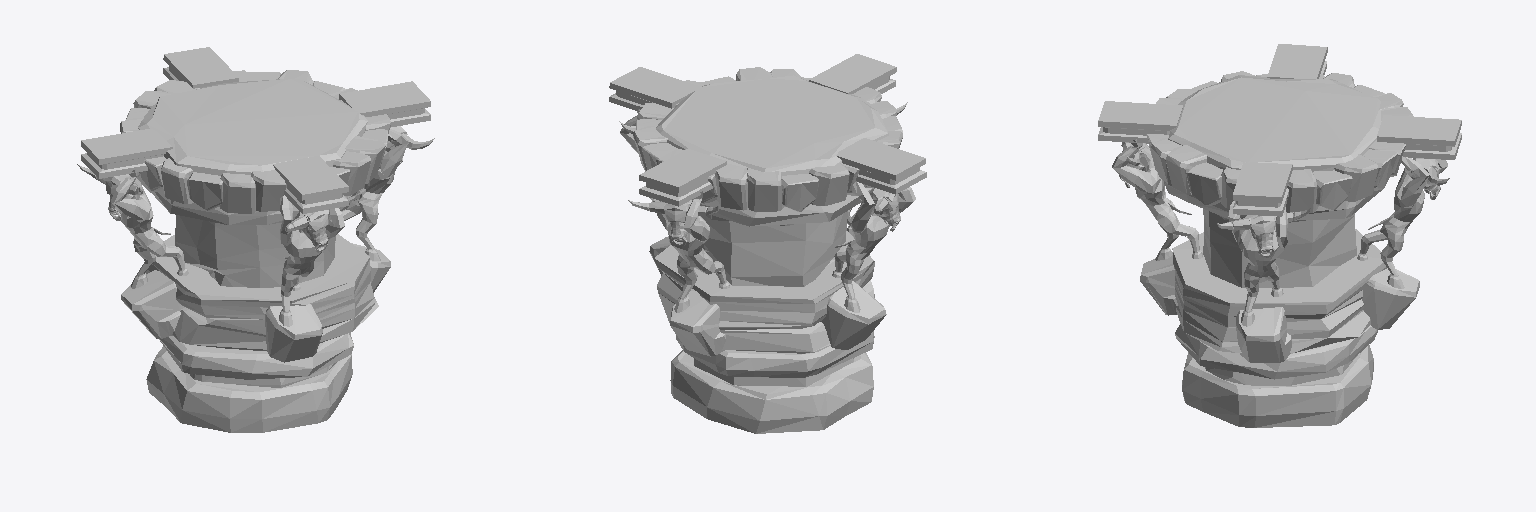
Rendered from hub pillar.obj.
3 views of the same model, side by side, from view 1: azimuth 30°, elevation 25°; view 2: azimuth 150°, elevation 25°; view 3: azimuth 270°, elevation 25° (orthographic).
Parts seen in each view (by area): view 1: group37 polySurface3 stone15 polySurface32 polySurface1, group37 polySurface10 stone1 polySurface32 polySurface1, group37 polySurface10 stone15 polySurface32 polySurface1, group37 polySurface10 stone10 polySurface32 polySurface1, group37 polySurface10 stone9 polySurface32 polySurface1, group39 group41 group42 group43 group45 polySurface5 polySurface, group39 group41 group42 group43 group44 polySurface5 polySurface, group39 group41 group42 polySurface9 polySurface12, group38 group40 group42 polySurface9 polySurface12, group39 group41 group42 group43 group46 polySurface5 polySurface, group39 group40 group42 polySurface9 polySurface12, group17 group38 group40 group42 polySurface4 stone6 top_ring pol (+11 smaller); view 2: group37 polySurface3 stone15 polySurface32 polySurface1, group37 polySurface10 stone1 polySurface32 polySurface1, group37 polySurface10 stone15 polySurface32 polySurface1, group37 polySurface10 stone10 polySurface32 polySurface1, group39 group41 group42 group43 group44 polySurface5 polySurface, group39 group41 group42 group43 group47 polySurface5 polySurface, group37 polySurface10 stone9 polySurface32 polySurface1, group39 group41 group42 polySurface9 polySurface12, group38 group41 group42 polySurface9 polySurface12, group17 group39 group41 group42 polySurface4 stone6 top_ring pol, group39 group40 group42 polySurface9 polySurface12, group17 group38 group41 group42 polySurface4 stone6 top_ring pol (+7 smaller); view 3: group37 polySurface3 stone15 polySurface32 polySurface1, group37 polySurface10 stone1 polySurface32 polySurface1, group37 polySurface10 stone15 polySurface32 polySurface1, group37 polySurface10 stone10 polySurface32 polySurface1, group37 polySurface10 stone9 polySurface32 polySurface1, group39 group41 group42 group43 group46 polySurface5 polySurface, group39 group41 group42 group43 group47 polySurface5 polySurface, group39 group41 group42 group43 group45 polySurface5 polySurface, group38 group41 group42 polySurface9 polySurface12, group38 group40 group42 polySurface9 polySurface12, group39 group40 group42 polySurface9 polySurface12, group17 group39 group40 group42 polySurface4 stone6 top_ring pol (+11 smaller).
Boxes of the visible parts, x1=… form: group37 polySurface3 stone15 polySurface32 polySurface1: x1=138, y1=79, x2=367, y2=175; group37 polySurface10 stone1 polySurface32 polySurface1: x1=145, y1=234, x2=378, y2=350; group37 polySurface10 stone15 polySurface32 polySurface1: x1=146, y1=346, x2=352, y2=432; group37 polySurface10 stone10 polySurface32 polySurface1: x1=175, y1=215, x2=336, y2=387; group37 polySurface10 stone9 polySurface32 polySurface1: x1=159, y1=333, x2=353, y2=379; group39 group41 group42 group43 group45 polySurface5 polySurface: x1=279, y1=192, x2=359, y2=326; group39 group41 group42 group43 group44 polySurface5 polySurface: x1=77, y1=164, x2=188, y2=288; group39 group41 group42 polySurface9 polySurface12: x1=81, y1=129, x2=172, y2=178; group38 group40 group42 polySurface9 polySurface12: x1=273, y1=156, x2=348, y2=213; group39 group41 group42 group43 group46 polySurface5 polySurface: x1=335, y1=126, x2=434, y2=260; group39 group40 group42 polySurface9 polySurface12: x1=339, y1=81, x2=430, y2=127; group17 group38 group40 group42 polySurface4 stone6 top_ring pol: x1=265, y1=304, x2=322, y2=362; group37 polySurface3 stone15 polySurface32 polySurface1: x1=656, y1=75, x2=888, y2=175; group37 polySurface10 stone1 polySurface32 polySurface1: x1=655, y1=231, x2=874, y2=353; group37 polySurface10 stone15 polySurface32 polySurface1: x1=670, y1=350, x2=873, y2=433; group37 polySurface10 stone10 polySurface32 polySurface1: x1=694, y1=211, x2=853, y2=386; group39 group41 group42 group43 group44 polySurface5 polySurface: x1=832, y1=181, x2=915, y2=312; group39 group41 group42 group43 group47 polySurface5 polySurface: x1=628, y1=191, x2=729, y2=312; group37 polySurface10 stone9 polySurface32 polySurface1: x1=676, y1=331, x2=874, y2=377; group39 group41 group42 polySurface9 polySurface12: x1=836, y1=138, x2=926, y2=193; group38 group41 group42 polySurface9 polySurface12: x1=639, y1=149, x2=726, y2=206; group17 group39 group41 group42 polySurface4 stone6 top_ring pol: x1=820, y1=281, x2=886, y2=349; group39 group40 group42 polySurface9 polySurface12: x1=609, y1=67, x2=700, y2=111; group17 group38 group41 group42 polySurface4 stone6 top_ring pol: x1=670, y1=289, x2=725, y2=356; group37 polySurface3 stone15 polySurface32 polySurface1: x1=1168, y1=75, x2=1381, y2=171; group37 polySurface10 stone1 polySurface32 polySurface1: x1=1172, y1=229, x2=1386, y2=353; group37 polySurface10 stone15 polySurface32 polySurface1: x1=1182, y1=345, x2=1373, y2=427; group37 polySurface10 stone10 polySurface32 polySurface1: x1=1203, y1=209, x2=1357, y2=385; group37 polySurface10 stone9 polySurface32 polySurface1: x1=1175, y1=323, x2=1377, y2=379; group39 group41 group42 group43 group46 polySurface5 polySurface: x1=1217, y1=197, x2=1310, y2=326; group39 group41 group42 group43 group47 polySurface5 polySurface: x1=1357, y1=148, x2=1449, y2=288; group39 group41 group42 group43 group45 polySurface5 polySurface: x1=1112, y1=139, x2=1202, y2=260; group38 group41 group42 polySurface9 polySurface12: x1=1377, y1=115, x2=1461, y2=159; group38 group40 group42 polySurface9 polySurface12: x1=1098, y1=101, x2=1182, y2=143; group39 group40 group42 polySurface9 polySurface12: x1=1233, y1=162, x2=1292, y2=216; group17 group39 group40 group42 polySurface4 stone6 top_ring pol: x1=1236, y1=307, x2=1291, y2=362.
Size of the model in its own units: 2143 by 1772 by 2143.